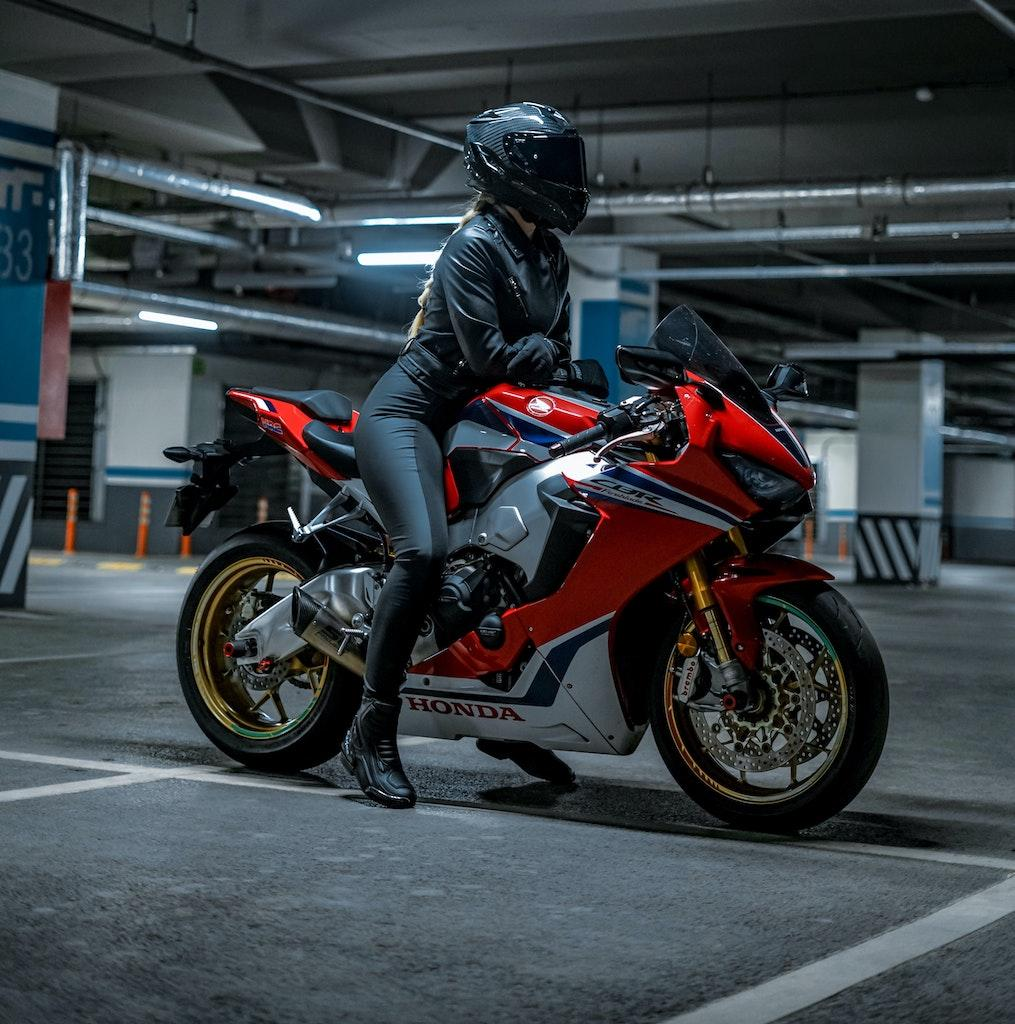helmet: (462, 99, 593, 237)
